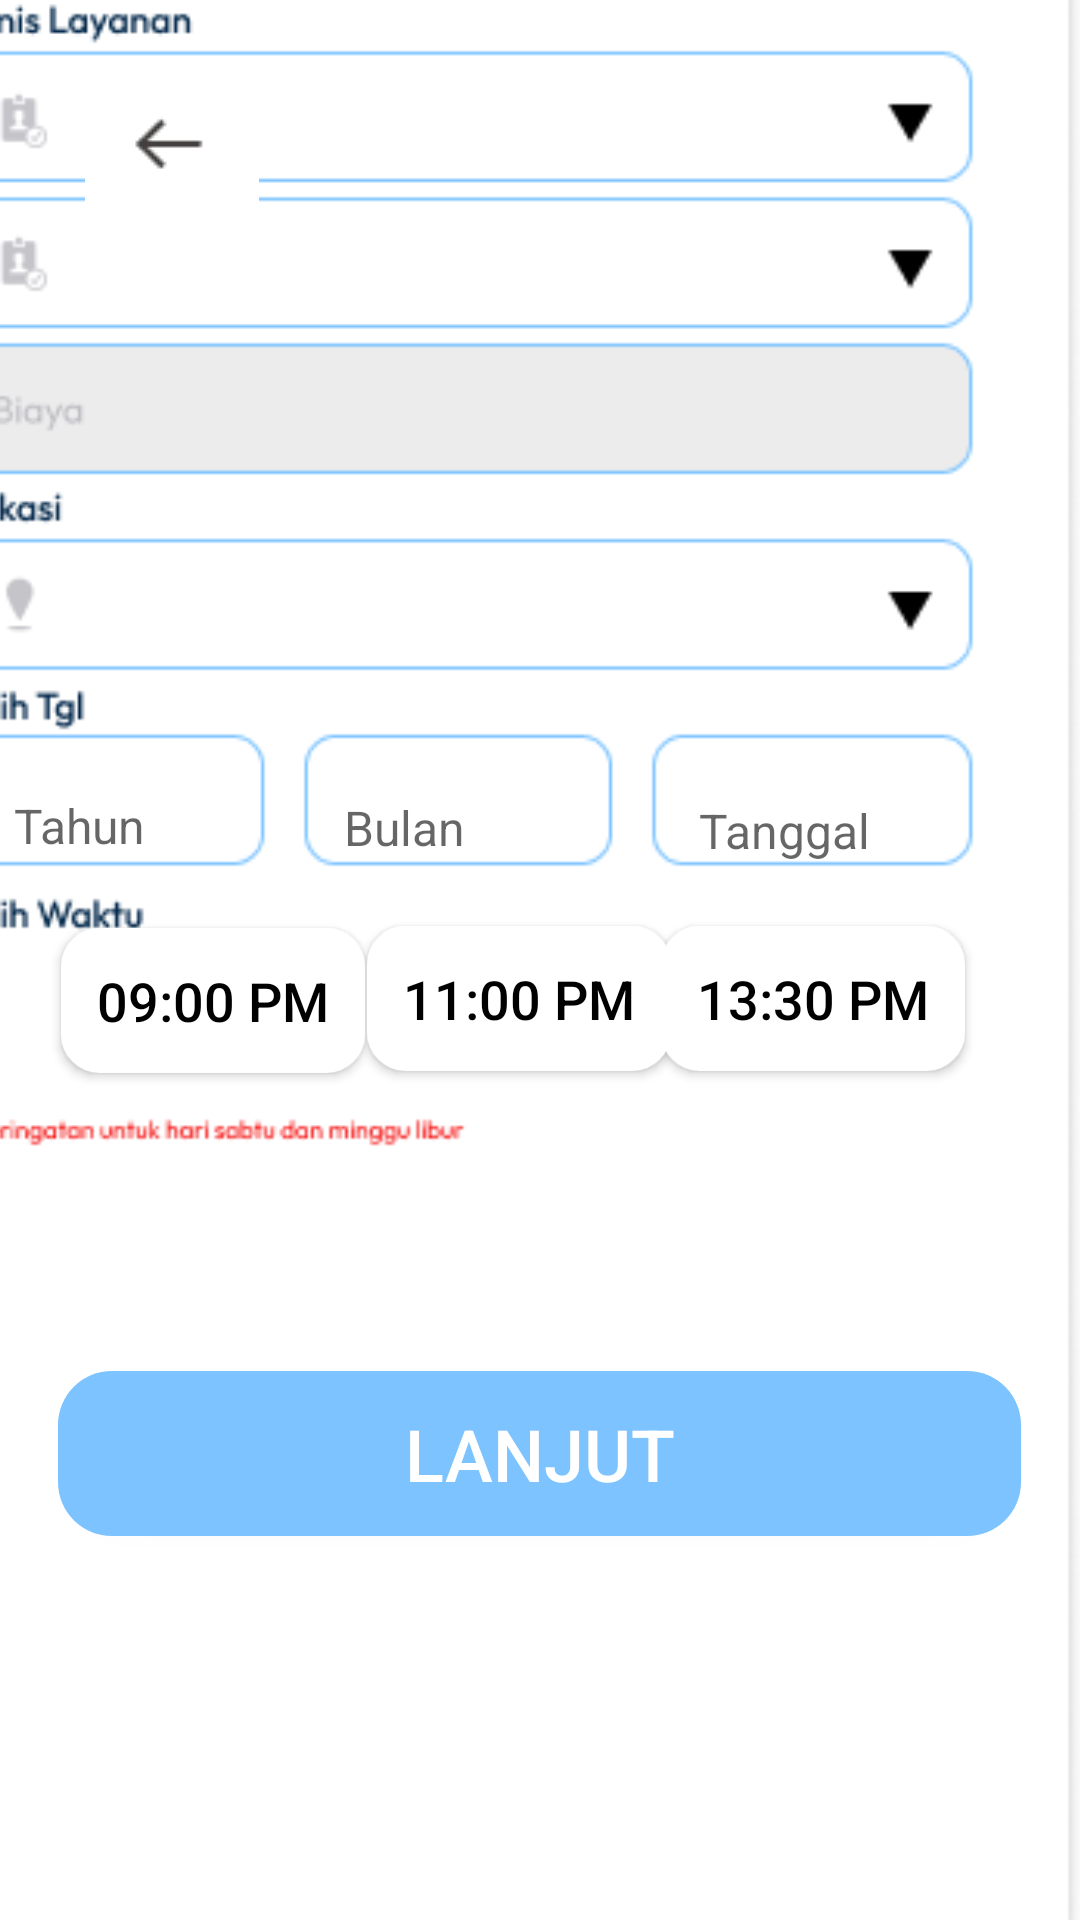

Named icons in this screenshot (1080px x 1920px) and their bounding boxes, [x1, y1, x2, y2]:
arrowleft: [135, 119, 203, 169]
